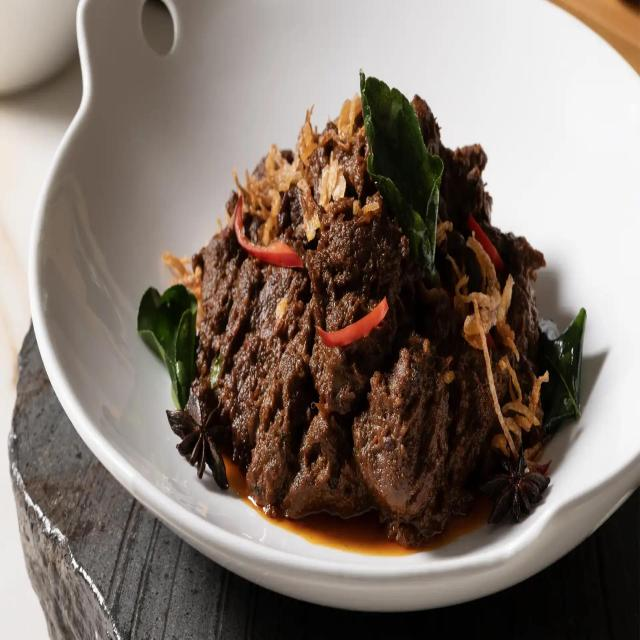Rendang: (178, 97, 552, 543)
